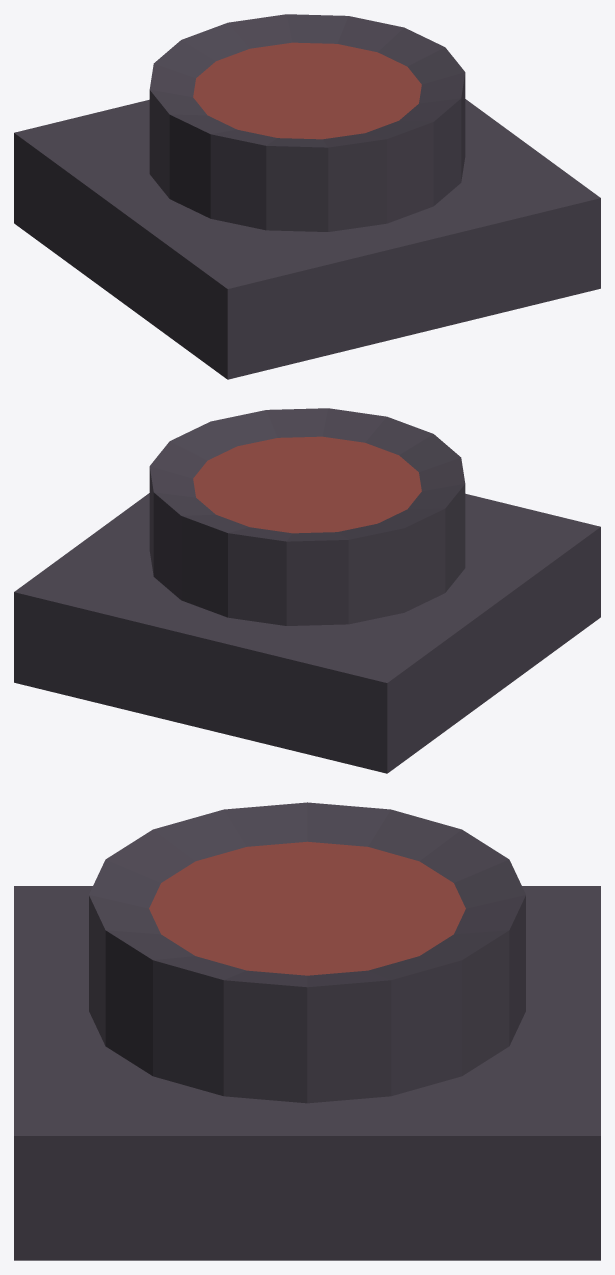
The picture shows the model from 3 angles, top to bottom: view 1: azimuth 30°, elevation 25°; view 2: azimuth 150°, elevation 25°; view 3: azimuth 270°, elevation 25°; orthographic projection. The views are drawn at different scales.
Visible parts, largest first — view 1: Body, Plunger; view 2: Body, Plunger; view 3: Body, Plunger.
Part boxes in pixels (box(x1,y1,x2,y2)): Body: box(14, 99, 600, 379); Plunger: box(149, 14, 465, 231); Body: box(14, 493, 600, 773); Plunger: box(149, 408, 465, 625); Body: box(14, 886, 600, 1260); Plunger: box(89, 802, 525, 1103).
Bounding box in the file's own units: 90.78 × 40.69 × 90.
